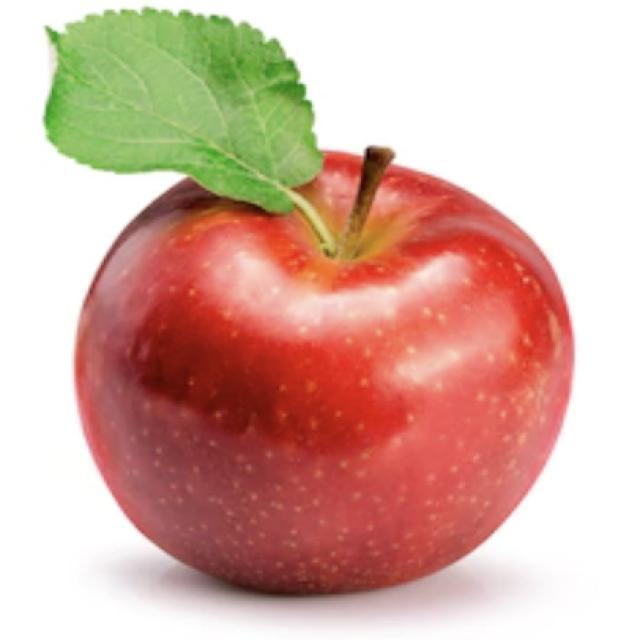Fresh Apple: (40, 160, 567, 593)
